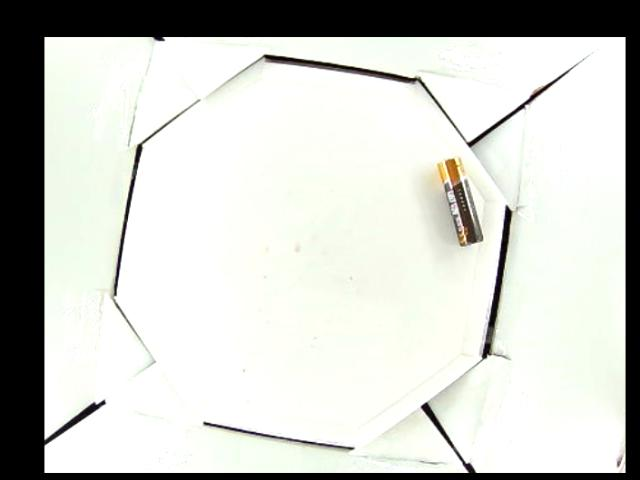Battery: (434, 156, 485, 244)
